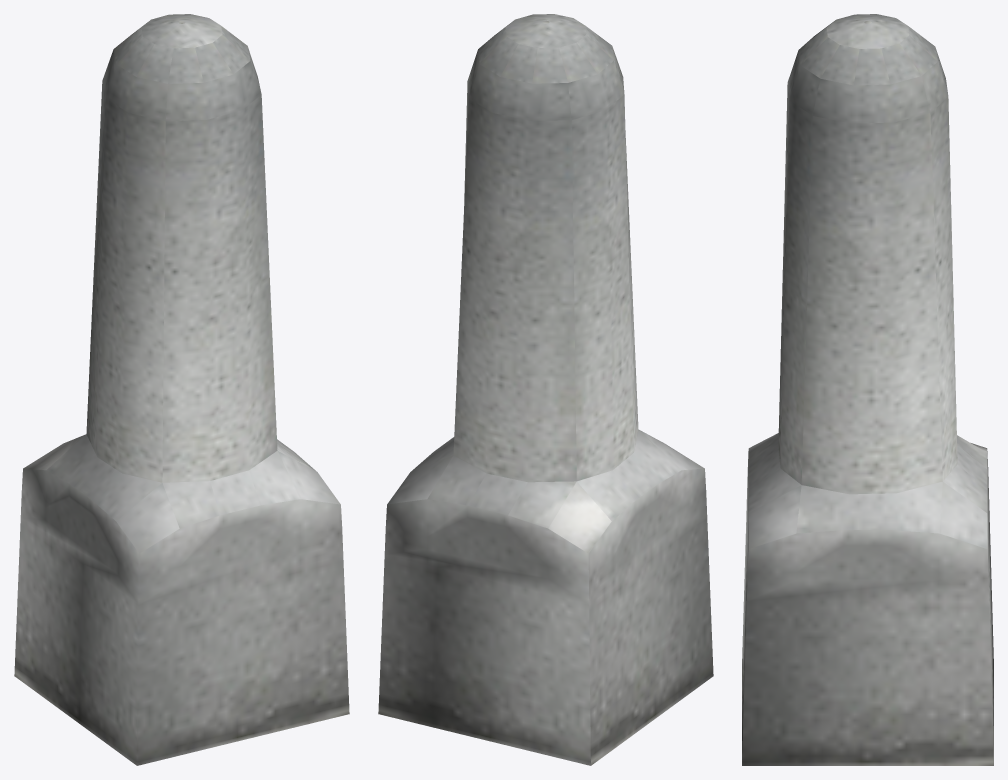
File: Urban_ConcreteRetroBollardLight_Model.fbx
3 renders of one model, left to right at view 1: azimuth 30°, elevation 25°; view 2: azimuth 150°, elevation 25°; view 3: azimuth 270°, elevation 25°, orthographic. The views are drawn at different scales.
Parts seen in each view (by area): view 1: Urban_ConcreteRetroBollardLight_Mesh; view 2: Urban_ConcreteRetroBollardLight_Mesh; view 3: Urban_ConcreteRetroBollardLight_Mesh.
Boxes of the visible parts, x1=… form: Urban_ConcreteRetroBollardLight_Mesh: x1=14, y1=14, x2=349, y2=765; Urban_ConcreteRetroBollardLight_Mesh: x1=378, y1=14, x2=713, y2=765; Urban_ConcreteRetroBollardLight_Mesh: x1=742, y1=14, x2=993, y2=765.
Size of the model in its own units: 0.4286 by 1.3 by 0.4286.
